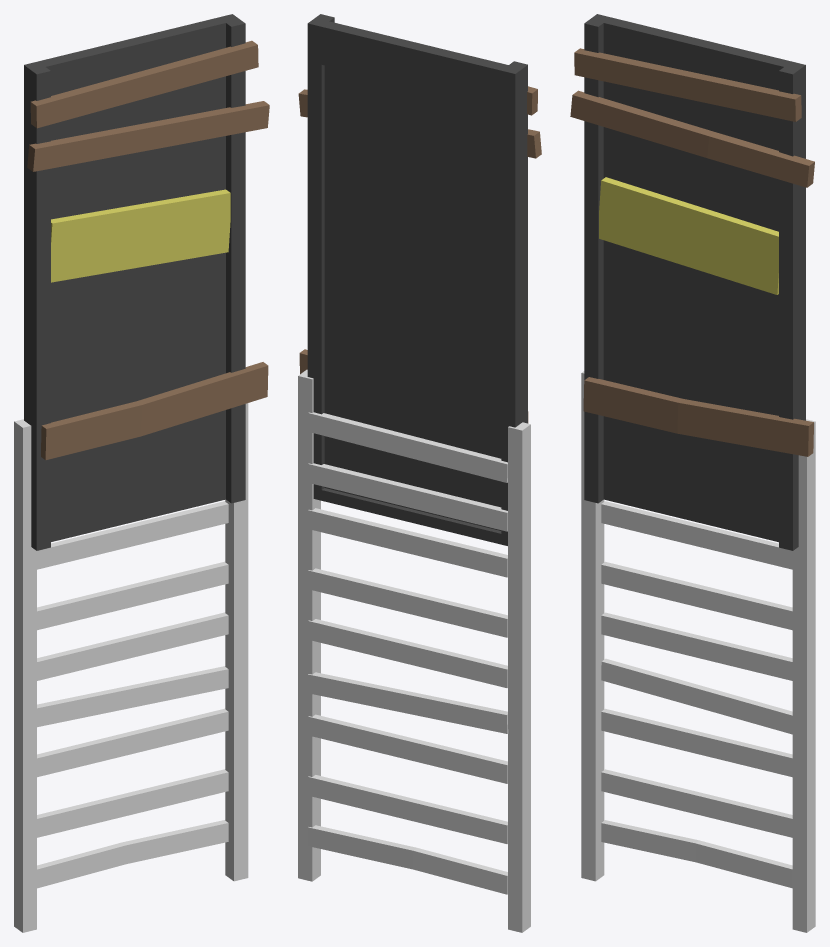
The model's file is Obst_vert.fbx.
The picture shows the model from 3 angles, left to right: view 1: azimuth 30°, elevation 25°; view 2: azimuth 150°, elevation 25°; view 3: azimuth 330°, elevation 25°; orthographic projection.
Visible parts, largest first — view 1: Cube.012, Cube.011; view 2: Cube.012, Cube.011; view 3: Cube.012, Cube.011.
Part boxes in pixels (left/top/right/bottom): Cube.012: left=24, top=14, right=269, bottom=550; Cube.011: left=14, top=403, right=248, bottom=932; Cube.012: left=298, top=14, right=541, bottom=545; Cube.011: left=298, top=369, right=530, bottom=932; Cube.012: left=570, top=14, right=814, bottom=550; Cube.011: left=581, top=371, right=815, bottom=932.
Bounding box in the file's own units: 211 × 730 × 33.14.
